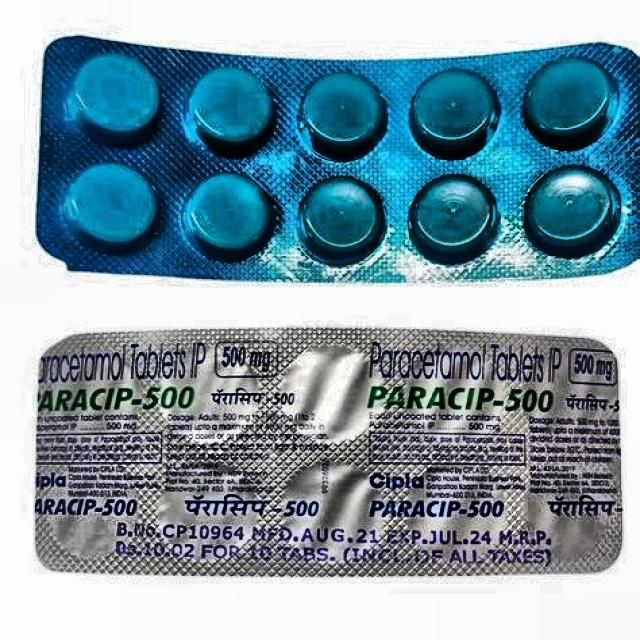Paracetamol: (35, 330, 612, 447)
